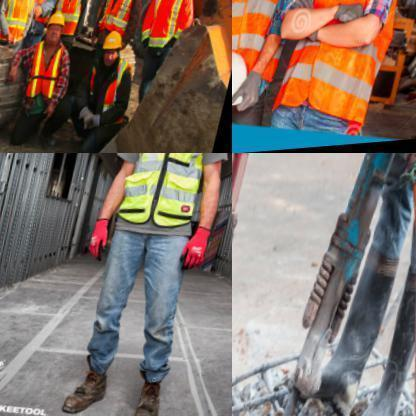Glass: (118, 154, 200, 227)
